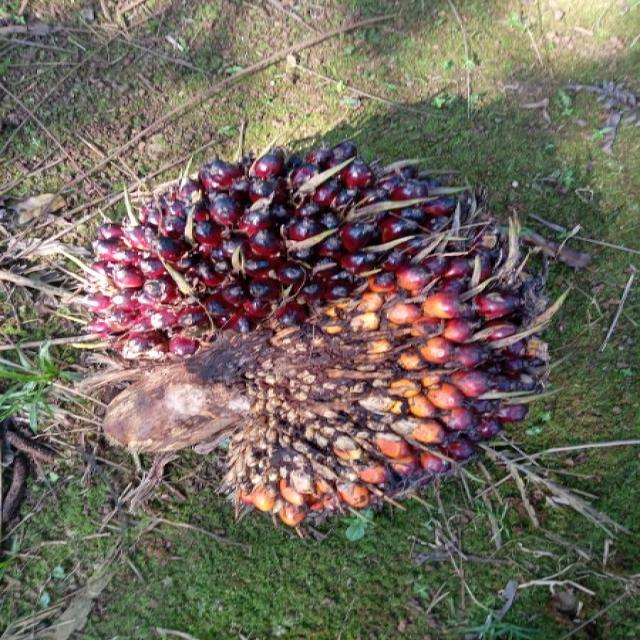fraksi 1: (6, 88, 612, 604)
